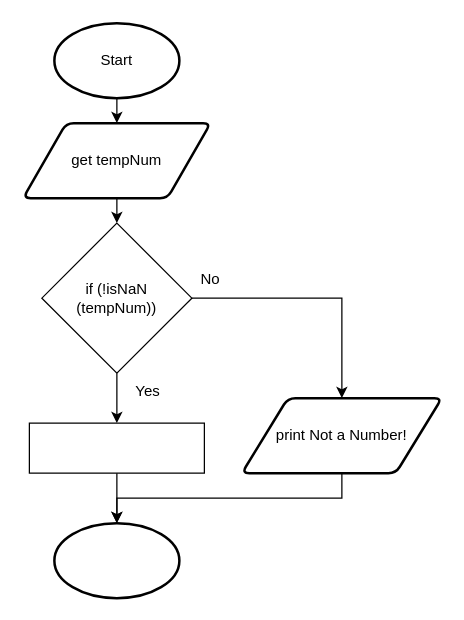
The diagram is 464 pixels wide and 620 high, and some of its shapes have lost their labels. Here are the shapes that lost their labels. From the top down, the centre of each, then its label:
the point at 116,447: stack.push(tempNum)
the point at 116,560: Stop
